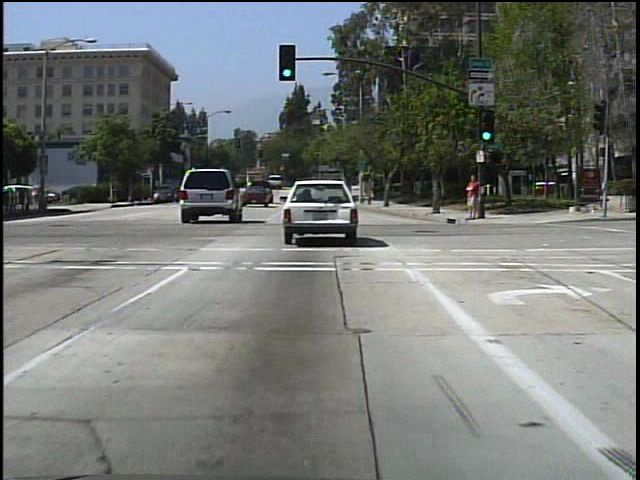person: (463, 171, 486, 225), (34, 180, 46, 212), (43, 183, 53, 210)
